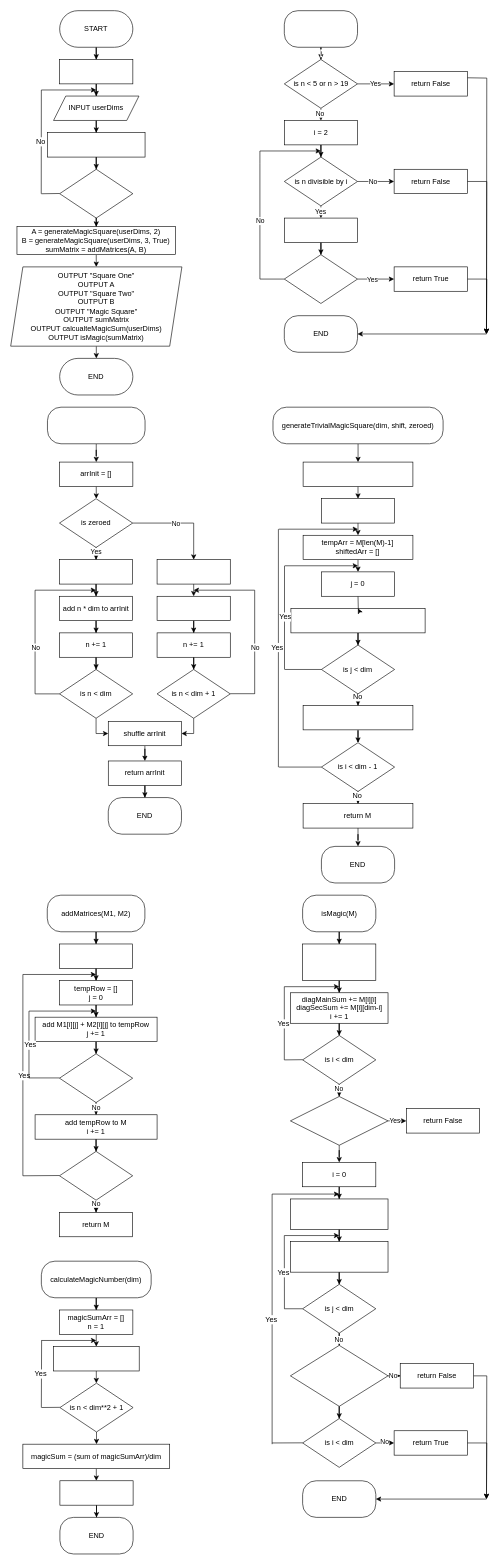
Image size: 503x1565. Some labels were removed from this diagram. The centre of each missing label's shape, as x and y in pixels:
"add n to arrInit" goes at point 193,608.
"add n to magicSumArr n += 1" goes at point 96,1358.
"add tempArr[j with offset] to shiftedArr j += 1" goes at point 357,620.
"arrInit = initRow(dim, zeroed)" goes at point 357,473.
"checkValidity(n)" goes at point 321,28.
"currRowSum += M[i][j] currColSum += M[j][i] j+= 1" goes at point 339,1256.
"currRowSum = 0 currColSum = 0 j = 0" goes at point 339,1213.
"dim = len(M) diagMainSum = 0 diagSecSum = 0 i = 0" goes at point 339,962.
"getInitRow(dim, zeroed)" goes at point 96,425.
"i += 1" goes at point 321,229.
"is currRowSum != curColSum != diagMainSum" goes at point 339,1375.
"is diagMainSum != to diagSecSum" goes at point 339,1120.
"is i < len(M1)" goes at point 96,1175.
"is i < n // 2" goes at point 321,278.
"is j < len(M1)" goes at point 96,1078.
"isValid" goes at point 96,193.
"isValid = checkValidity(userDims)" goes at point 96,144.
"isValid = False" goes at point 96,71.
"M = [] i = 0" goes at point 96,955.
"M = [arrInit] i = 0" goes at point 358,510.
"M.append(shiftedArr) i += 1" goes at point 357,717.
"n = 0" goes at point 96,571.
"n = 1" goes at point 193,571.
"return magicSum" goes at point 96,1492.
